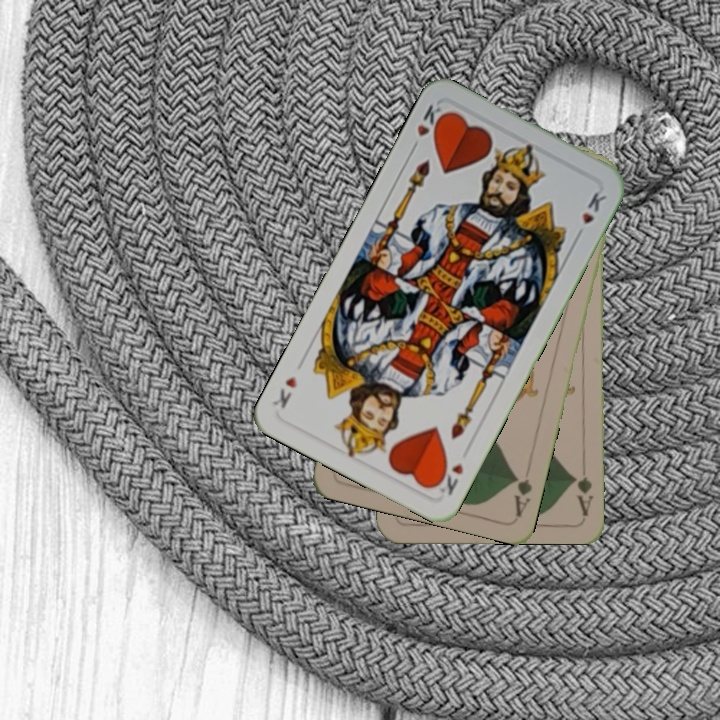GA: (569, 459, 596, 518), (509, 470, 535, 519)
HK: (412, 100, 450, 141), (431, 458, 466, 498)
